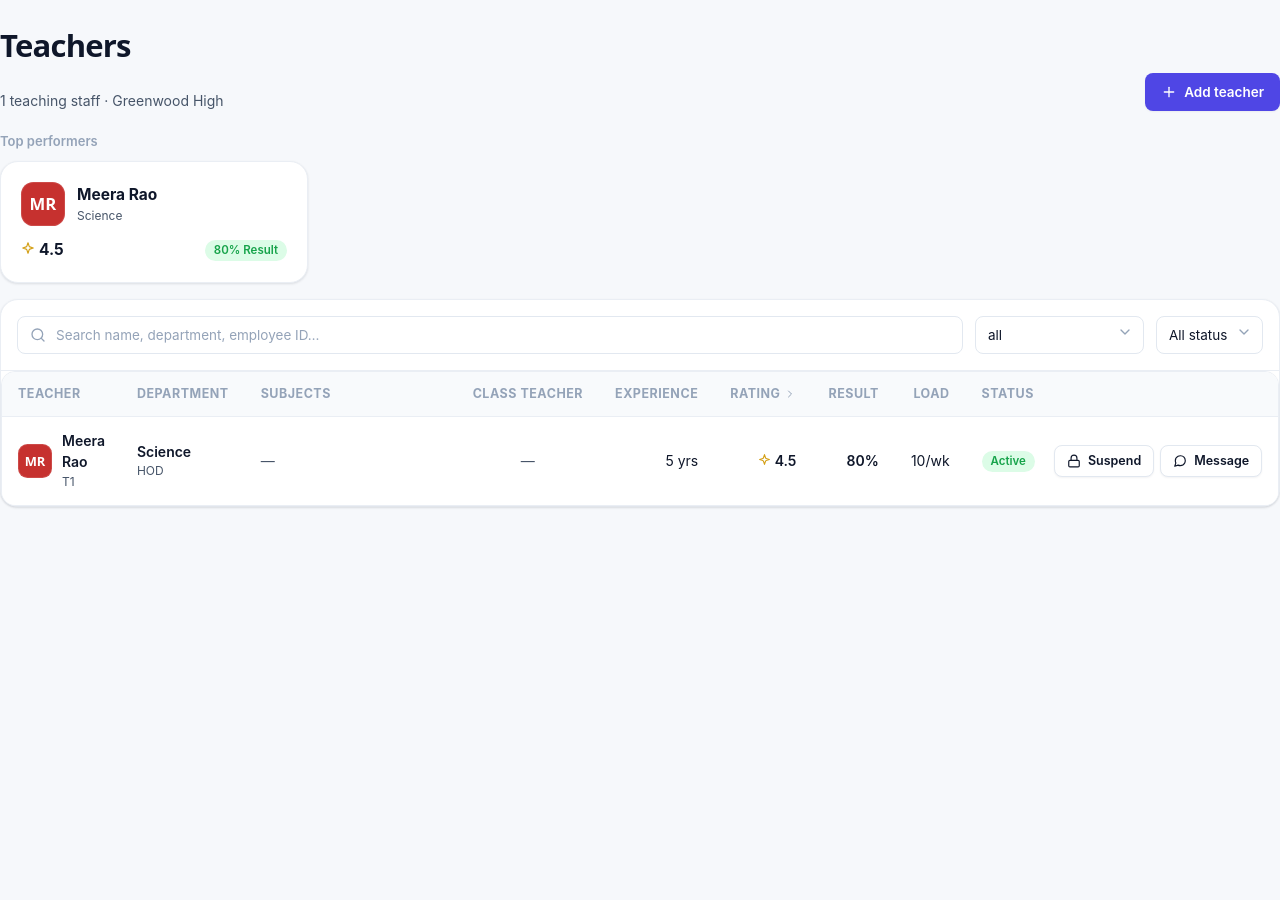
Test: Teacher profile — App access card › suspends the account and flips the button to Unsuspend
The width and height of the screenshot is (1280, 900).
Expected: the 1st text "Meera Rao" is shown, [77,183,157,207]
Step 1. Click the text "Meera Rao" next to "HOD" → (83, 452), box [62,430,105,473]
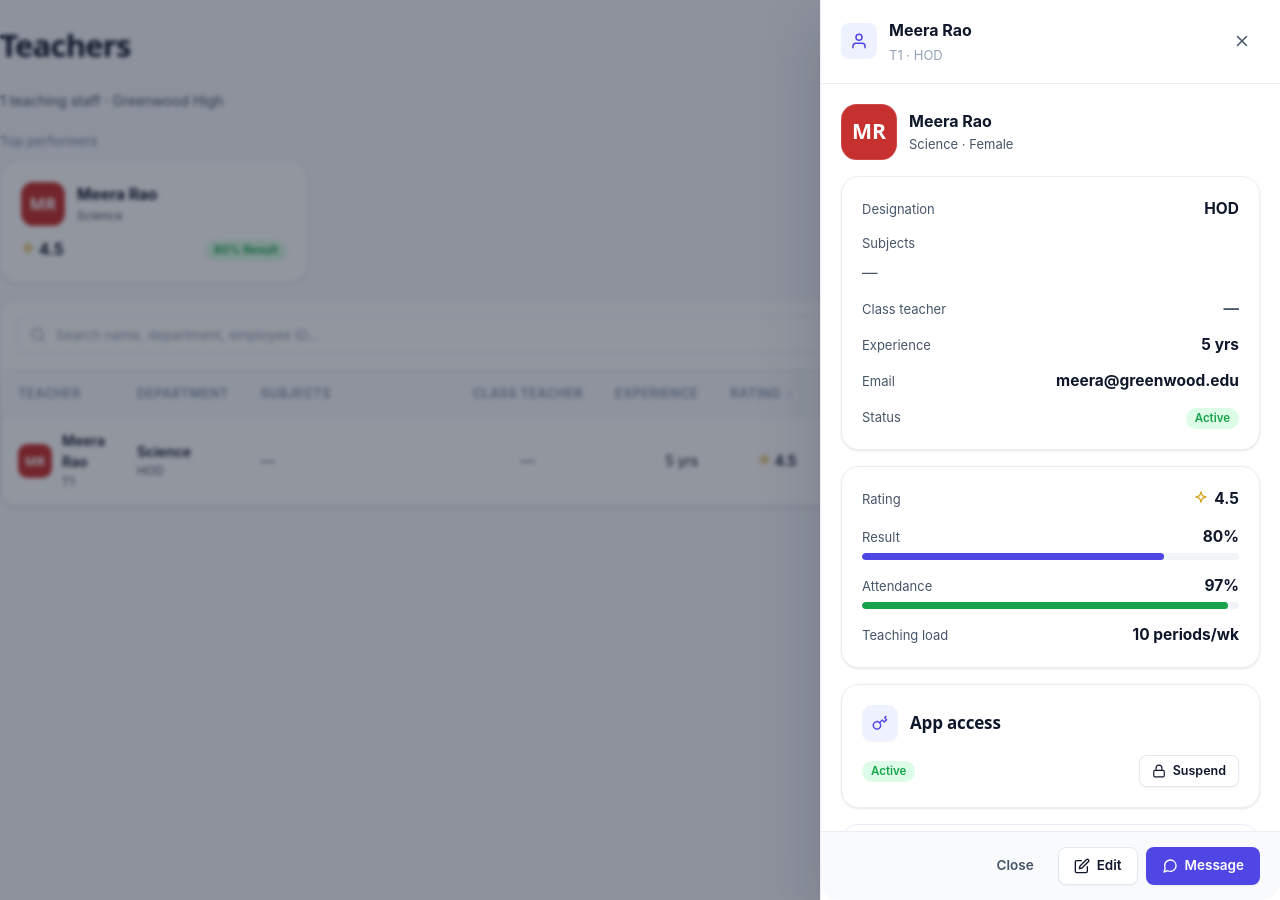
Step 2. Click the button "Suspend" → (1189, 772), box [1139,756,1239,788]
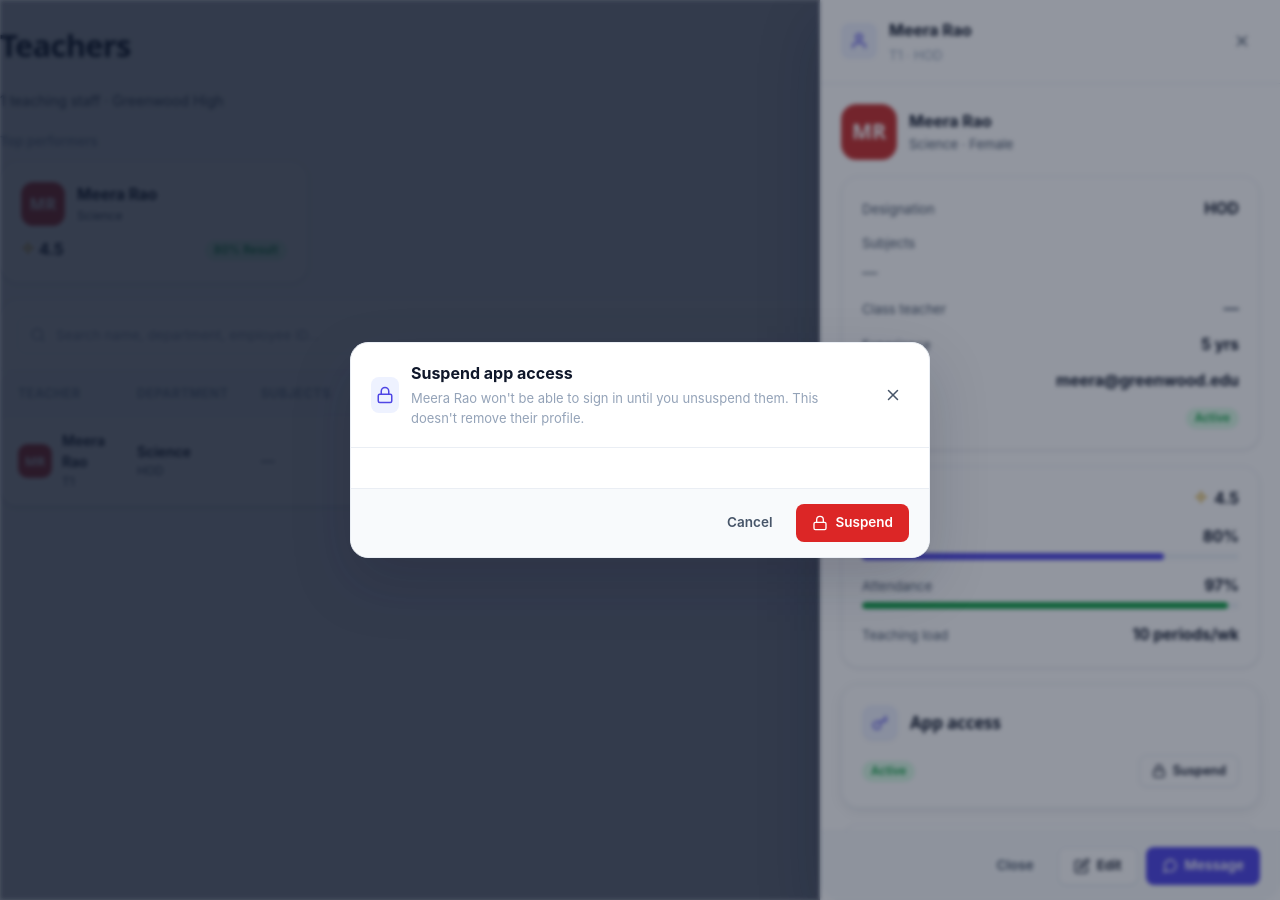
Step 3. Click the button "Suspend" → (853, 522), box [796,504,909,542]
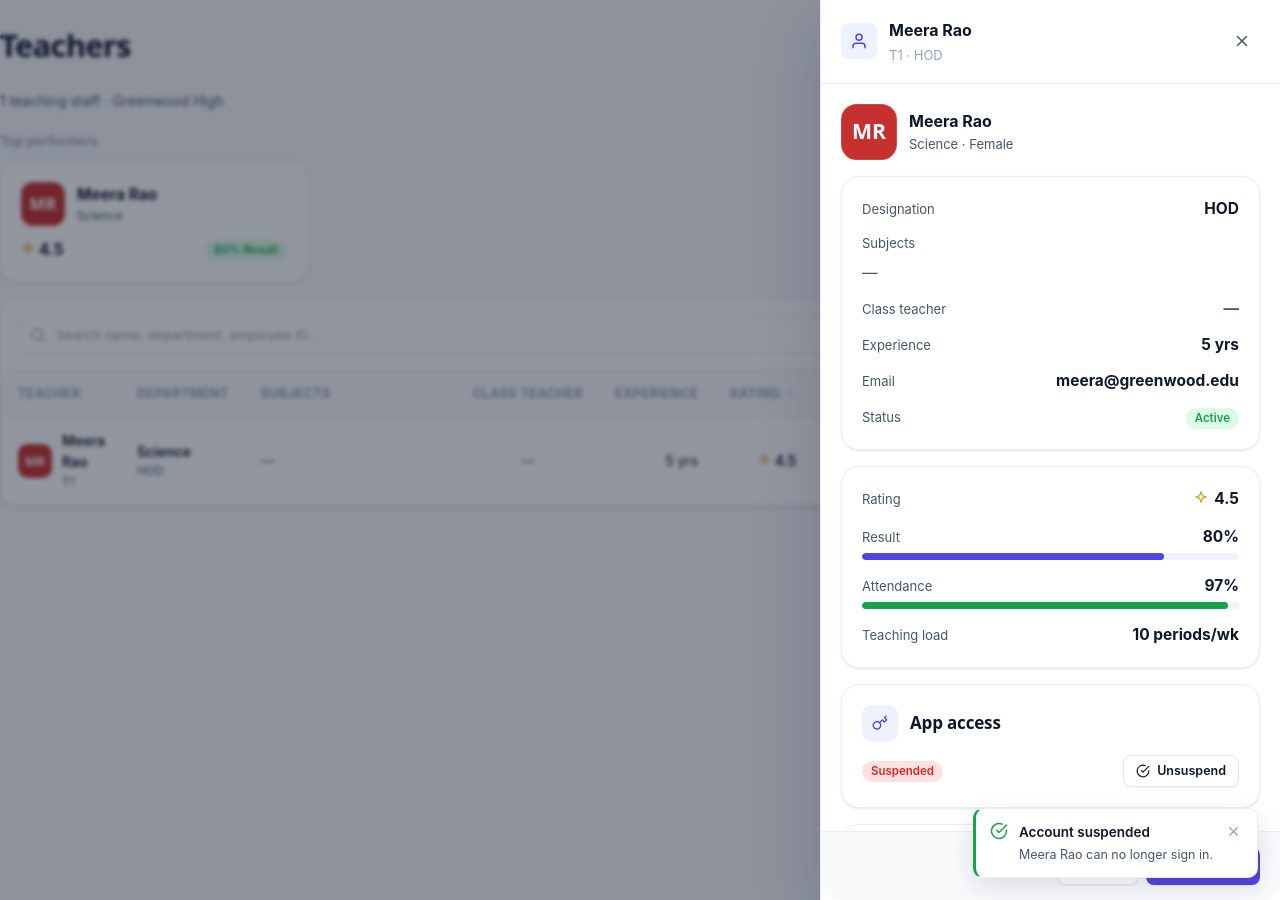
Expected: the button "Unsuspend" is shown, [1123,756,1239,788]
Expected: the text "Suspended" is shown, [862,761,943,782]
